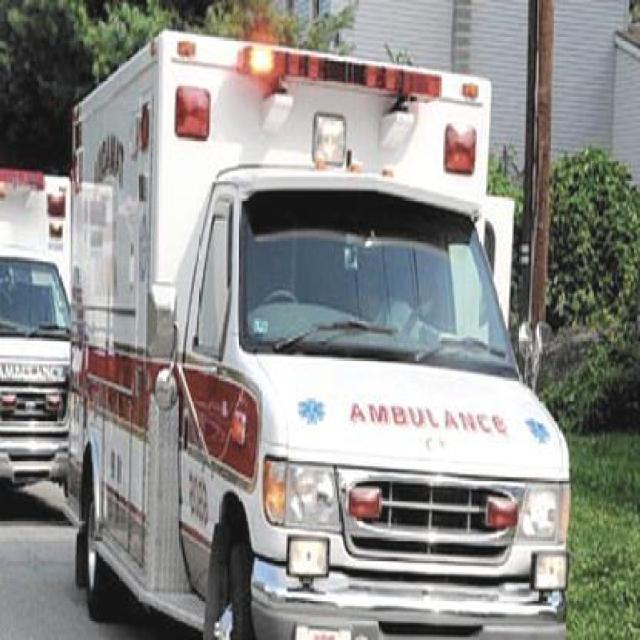emergency: (57, 27, 573, 639)
